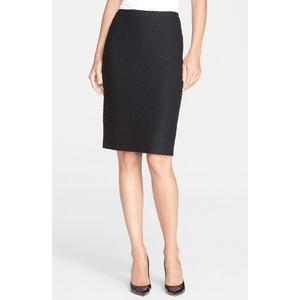F_tailored skirt: (94, 6, 193, 159)
